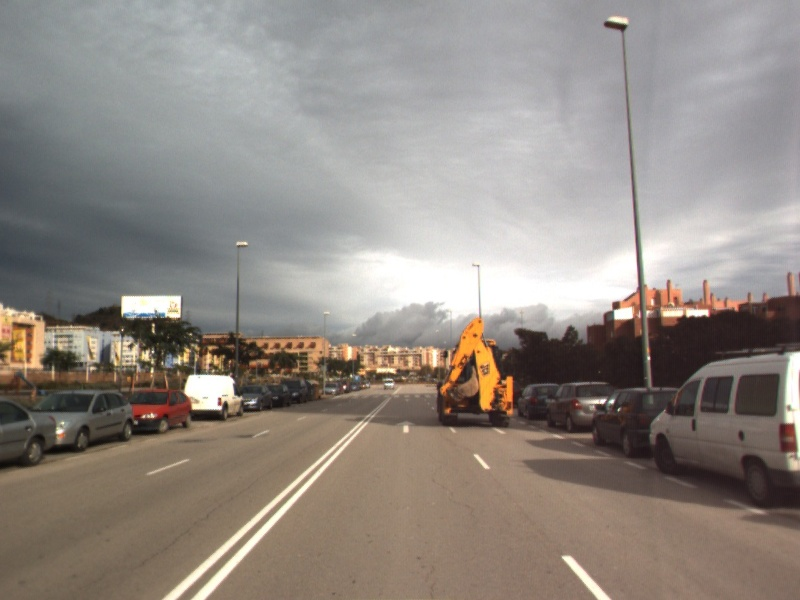STRAIGHT: (395, 418, 417, 434)
